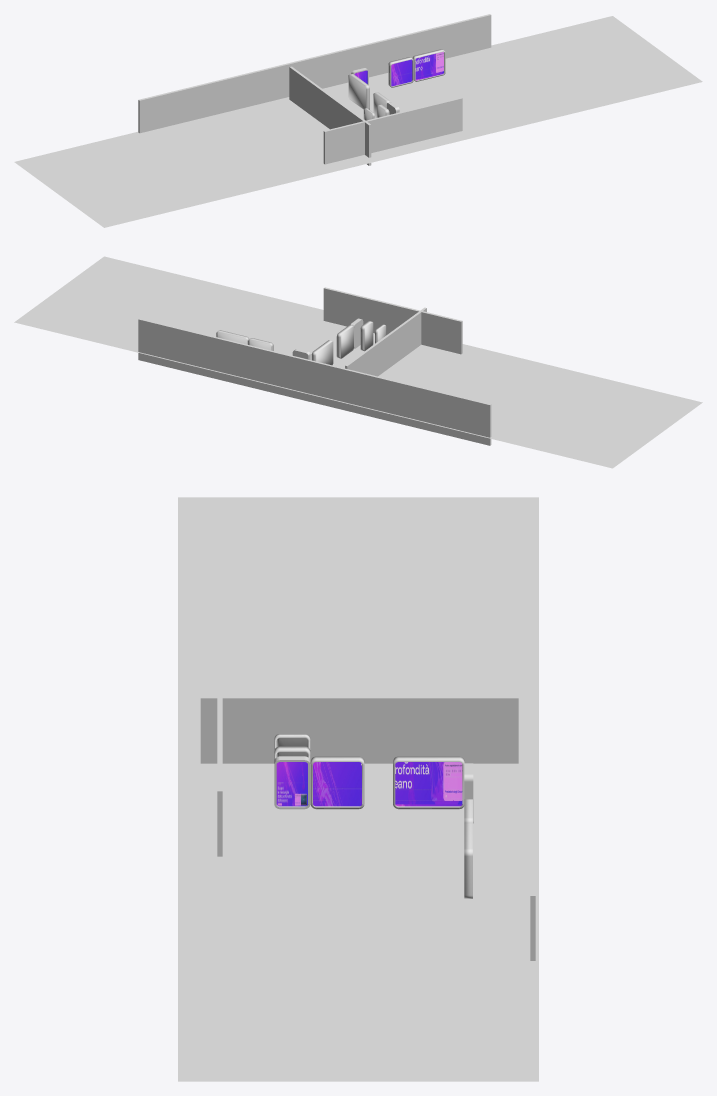
File: Moduli_immersiva_001.glb
3 views of the same model, one above another, from view 1: azimuth 30°, elevation 25°; view 2: azimuth 150°, elevation 25°; view 3: azimuth 270°, elevation 25° (orthographic). The views are drawn at different scales.
Parts seen in each view (by area): view 1: Plane, Cube.008, Cube.009, Cube.002, Cube.012, Cube.011, Cube.007; view 2: Plane, Cube.008, Cube.009, Cube.002, Cube.006, Cube.007, Cube.004; view 3: Plane, Cube.002, Cube.007, Cube.006, Cube.008, Cube.001, Cube.005, Cube.009.
Boxes of the visible parts, box(x1,y1,x2,y2) form: Plane: box(14, 16, 702, 227); Cube.008: box(138, 14, 491, 133); Cube.009: box(323, 97, 462, 164); Cube.002: box(289, 66, 371, 165); Cube.012: box(412, 49, 445, 81); Cube.011: box(388, 57, 413, 87); Cube.007: box(348, 74, 369, 109); Plane: box(14, 256, 702, 468); Cube.008: box(138, 318, 491, 445); Cube.009: box(323, 287, 462, 354); Cube.002: box(345, 307, 426, 376); Cube.006: box(336, 325, 353, 358); Cube.007: box(311, 340, 333, 365); Cube.004: box(360, 321, 373, 351); Plane: box(178, 497, 538, 1081); Cube.002: box(200, 696, 518, 763); Cube.007: box(393, 756, 464, 809); Cube.006: box(310, 756, 364, 809); Cube.008: box(530, 552, 535, 960); Cube.001: box(318, 714, 372, 763); Cube.005: box(274, 756, 310, 809); Cube.009: box(217, 657, 222, 856).
Size of the model in its own units: 76.65 by 4.98 by 20.
3 materials, 1 textured.
